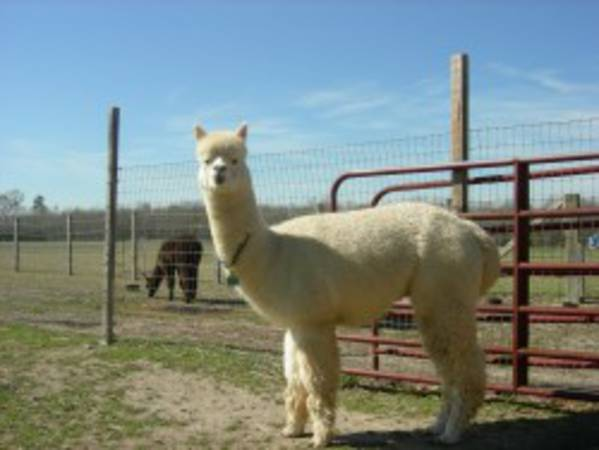alpaca: (191, 124, 499, 447), (144, 232, 204, 301)
